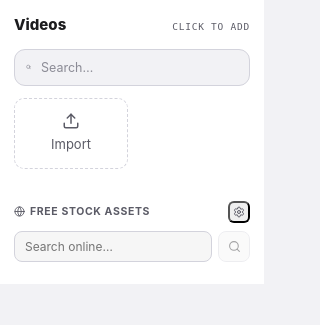
Test: LibraryPanel — searching online › reports a search that failed outright
The width and height of the screenshot is (320, 325).
In the field with placeholder "Search online…": (113, 246) [14,231,212,262], type "cats"
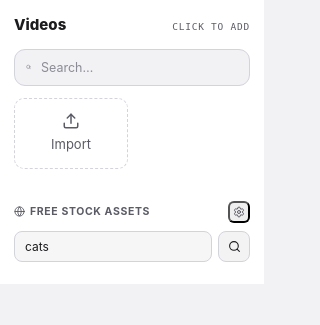
Click the 2nd button: (234, 246) [218,231,250,262]
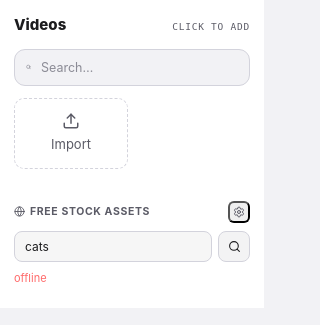
Now the text "offline" is shown, box [14,271,47,285]
